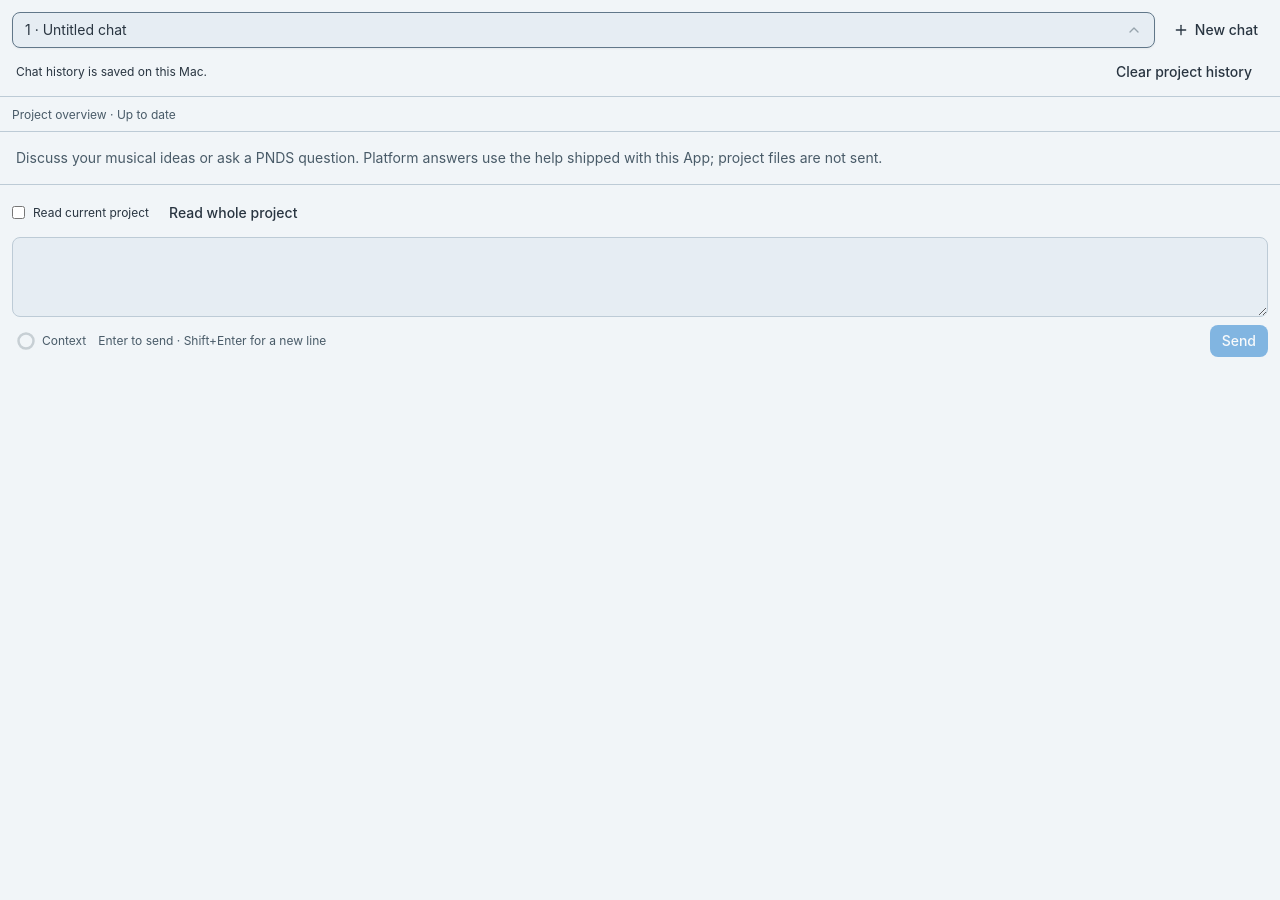
it: creation discussion reading (#166) › shows project, service and scope before sending and keeps the question on Escape (#168)
The width and height of the screenshot is (1280, 900).
Click the checkbox labelled "Read current project". click: (18, 213)
box: 12,206 -> 25,219
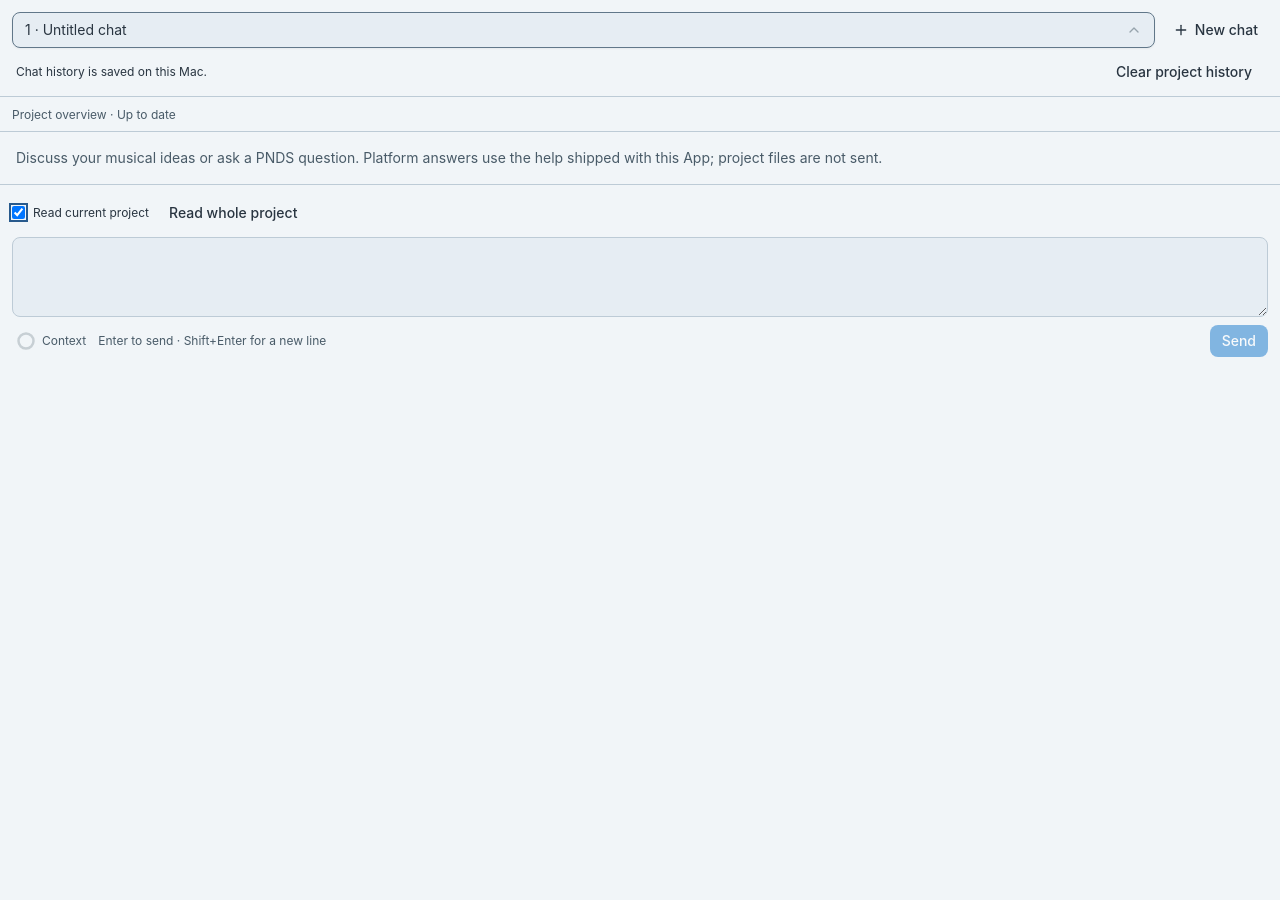
Type "Explain the saved score" into the text box named "Ask the assistant". click: (640, 277)
box: 12,237 -> 1268,317
Then press Enter
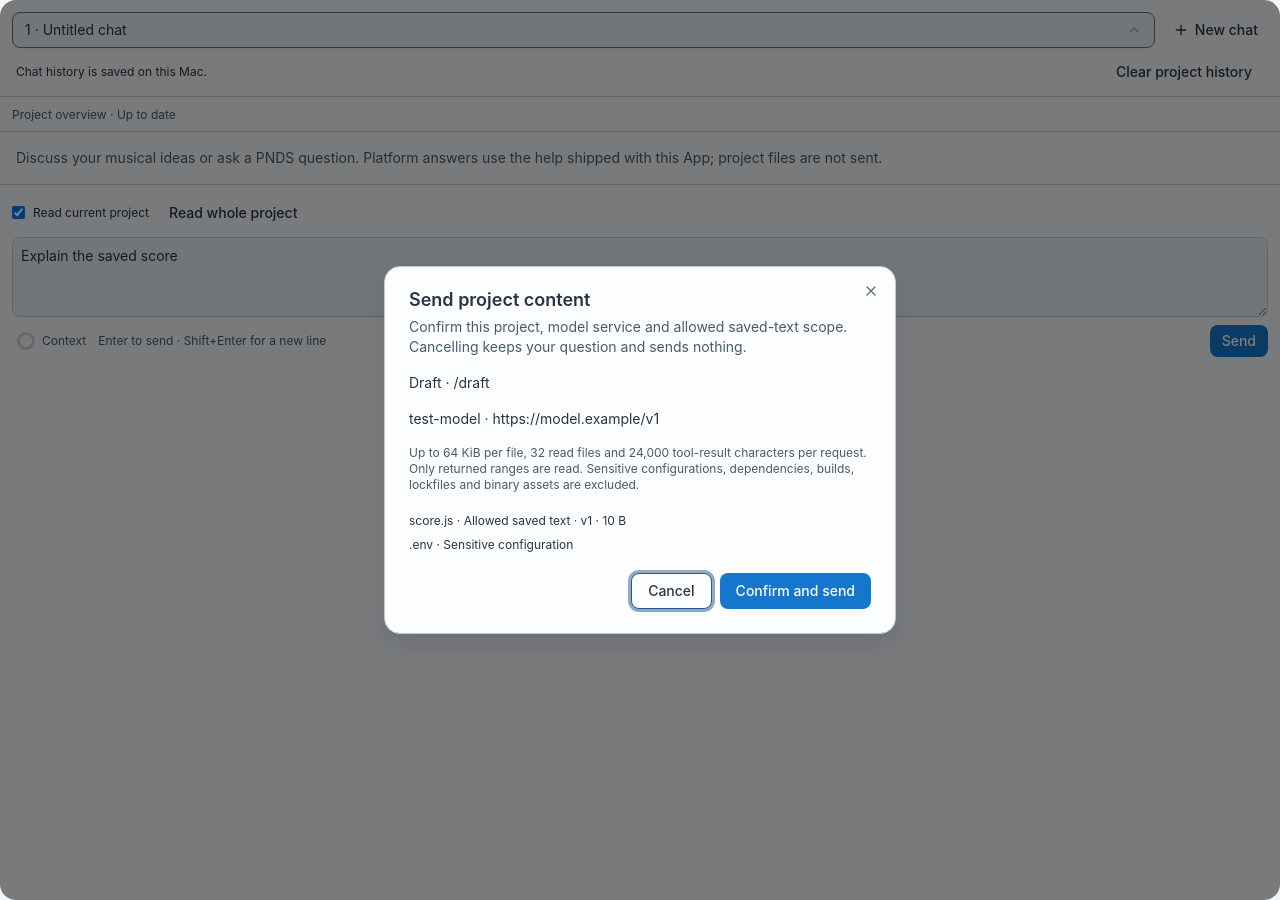
Expected: the dialog "Send project content" shows "test-model", 409,410 -> 480,427
Expected: the dialog shows "Sensitive configuration", 443,537 -> 573,552
Expected: the button "Cancel" is shown, 631,573 -> 712,609
Press Escape
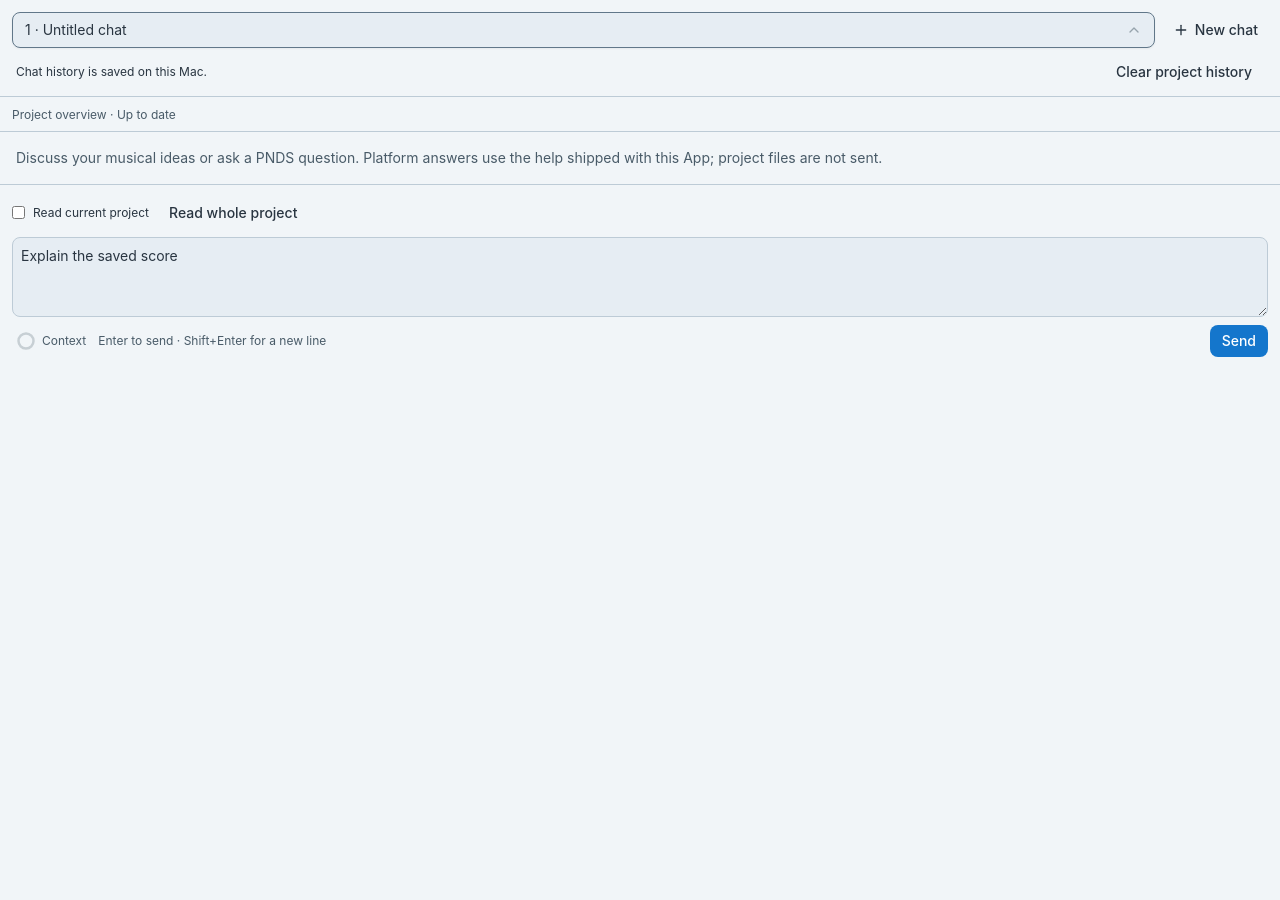
Expected: the dialog is gone
